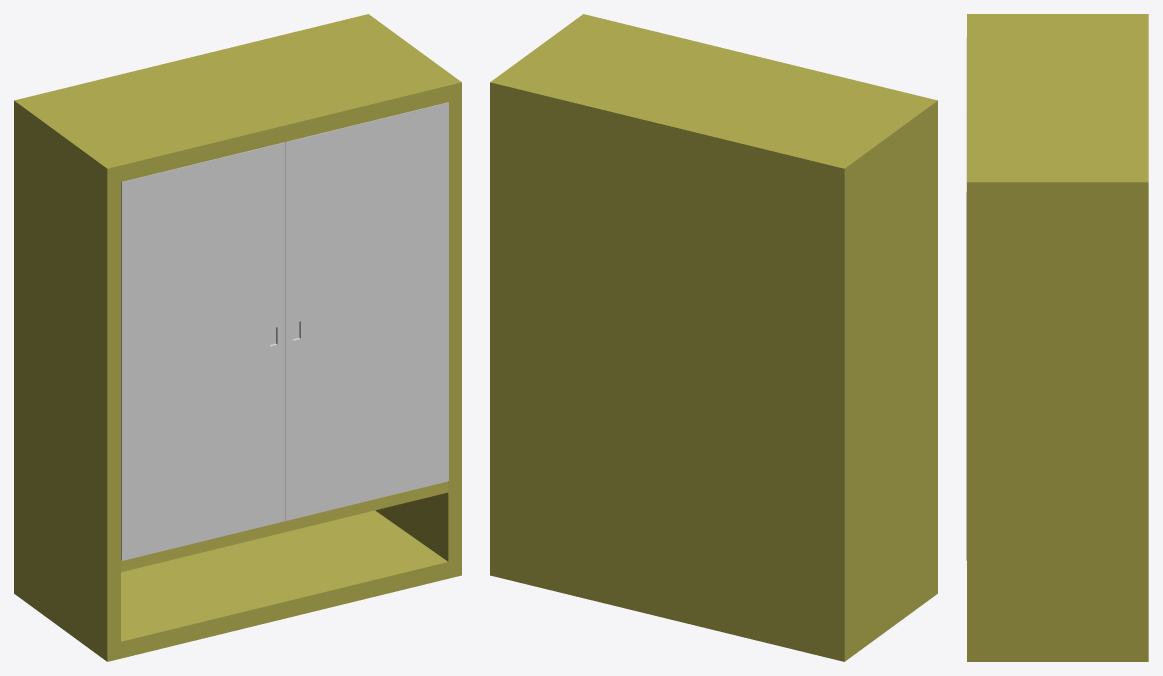
File: Armario.fbx
The picture shows the model from 3 angles, left to right: view 1: azimuth 30°, elevation 25°; view 2: azimuth 150°, elevation 25°; view 3: azimuth 270°, elevation 25°; orthographic projection. The views are drawn at different scales.
Parts seen in each view (by area): view 1: Cube.027, Cube.029; view 2: Cube.027; view 3: Cube.027, Cube.029.
Part boxes in pixels (x1,y1,x2,y2): Cube.027: (14,14,461,661); Cube.029: (121,102,448,560); Cube.027: (490,14,937,661); Cube.027: (967,14,1148,661); Cube.029: (966,37,966,560).
Bounding box in the file's own units: 21.54 × 28.64 × 9.86.
